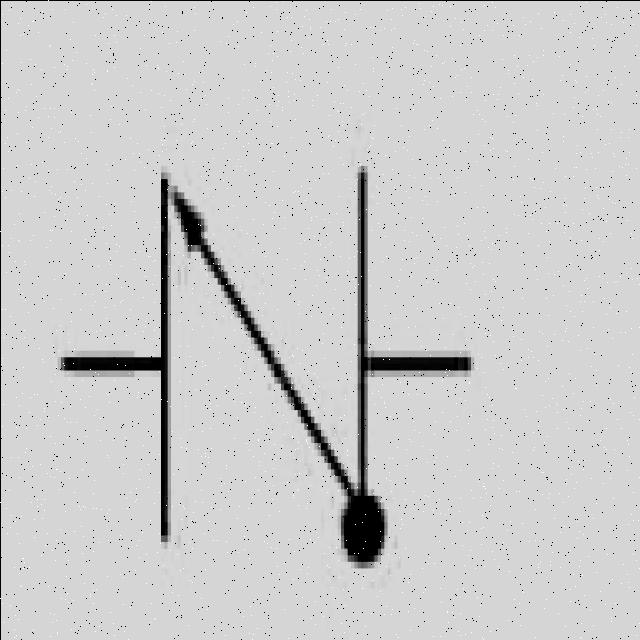Check Valve: (102, 115, 450, 616)
